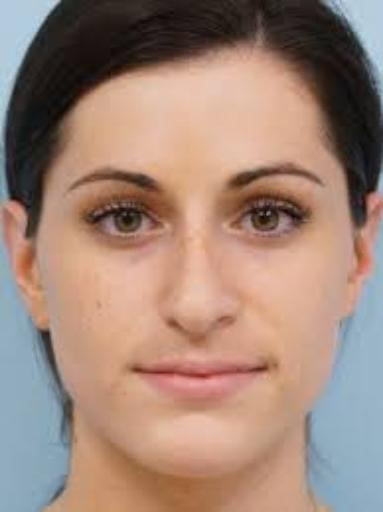left_eye: (232, 203, 307, 240)
left_lip_corner: (250, 354, 280, 382)
right_eye: (87, 208, 162, 247)
right_lip_corner: (124, 358, 153, 385)
